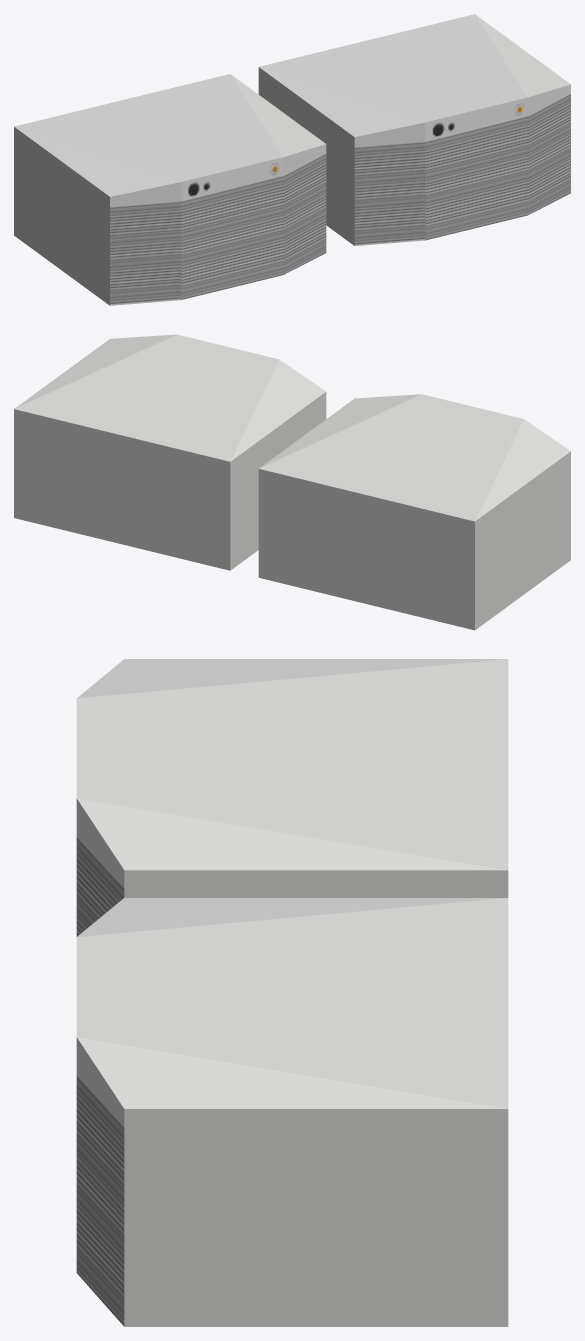
File: Bundle_Air_Purifiers.fbx
3 renders of one model, top to bottom at view 1: azimuth 30°, elevation 25°; view 2: azimuth 150°, elevation 25°; view 3: azimuth 270°, elevation 25°, orthographic. The views are drawn at different scales.
Visible parts, largest first — view 1: Bundle_Air_Purifier_1; view 2: Bundle_Air_Purifier_1; view 3: Bundle_Air_Purifier_1.
Boxes of the visible parts, x1,y1,x2,y2 form: Bundle_Air_Purifier_1: (14, 14, 570, 305); Bundle_Air_Purifier_1: (14, 334, 570, 630); Bundle_Air_Purifier_1: (76, 659, 508, 1326).
Size of the model in its own units: 198 by 48.55 by 80.47.
